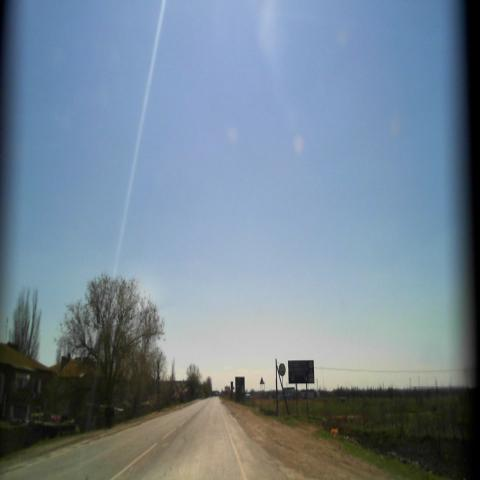3_12: (278, 362, 286, 377)
